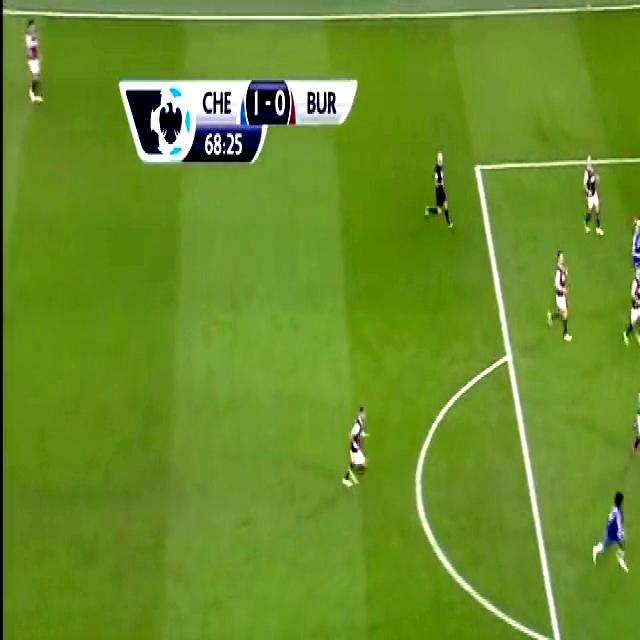referee: (421, 141, 457, 238)
soccer-player: (585, 486, 631, 584), (340, 391, 373, 498), (544, 247, 576, 353), (18, 13, 47, 115), (577, 147, 605, 245), (624, 260, 640, 356), (627, 368, 640, 462), (639, 164, 640, 244)
